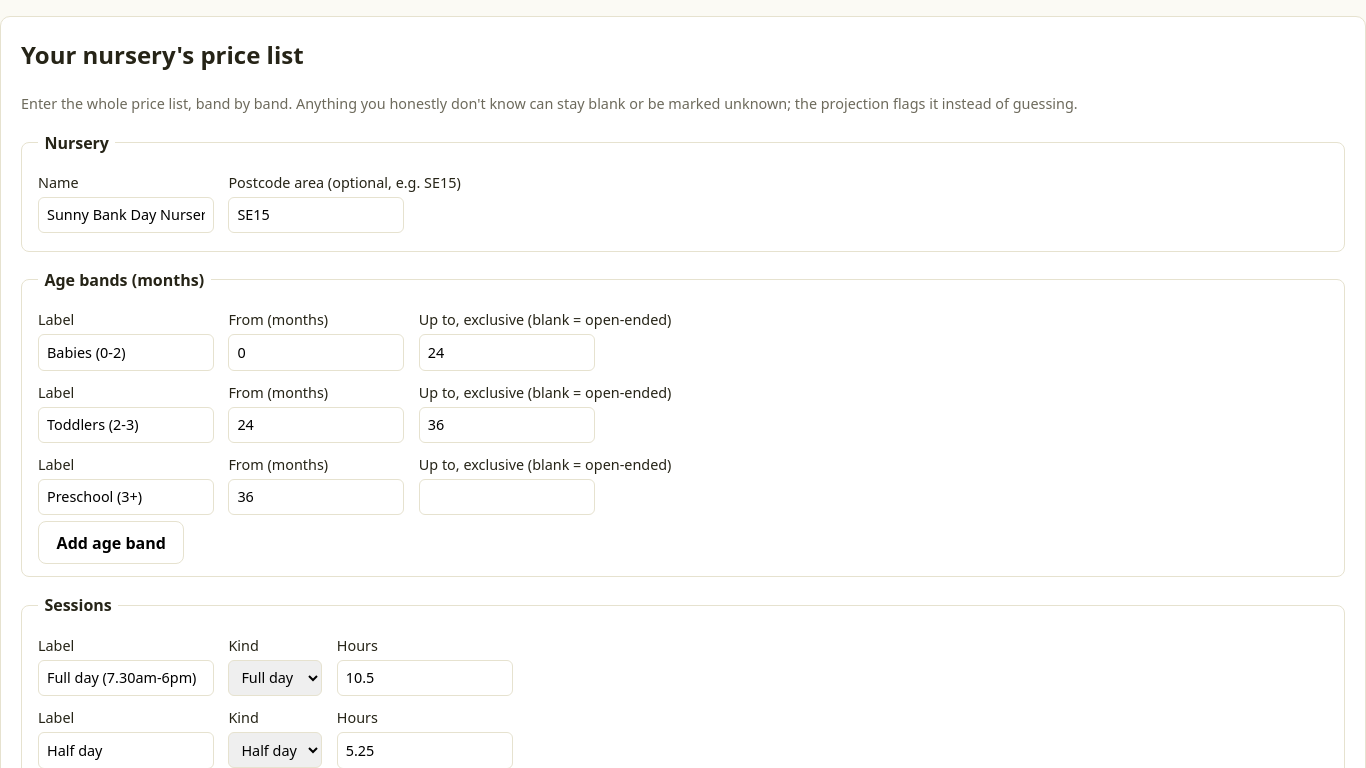
NurseryForm › shows schema errors instead of saving invalid input
The image size is (1366, 768).
Clear the field labelled "Name" at (126, 215), box [38,197,214,233]
(page scrolled)
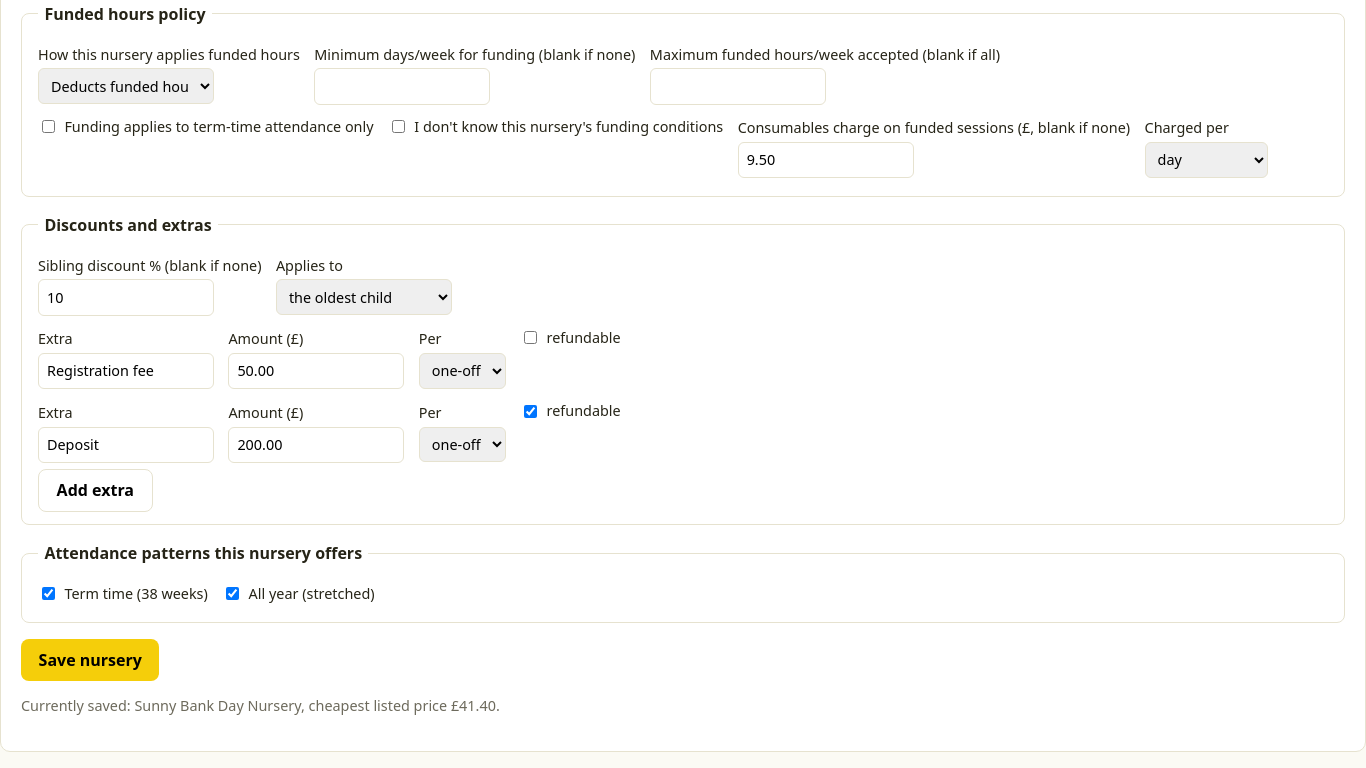
Click the button "Save nursery" at (90, 660), box [21,639,160,680]
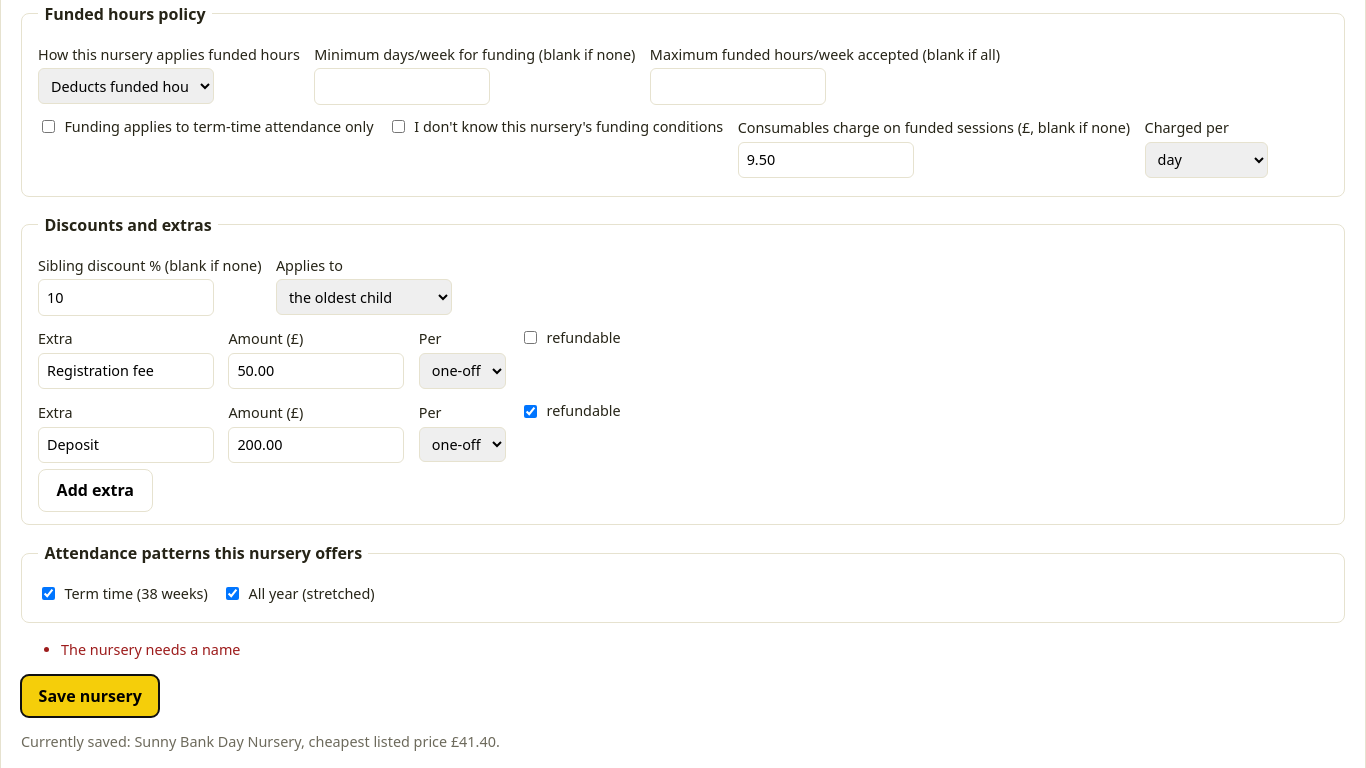
Check: the list item "The nursery needs a name" is shown, box [61,640,240,659]
